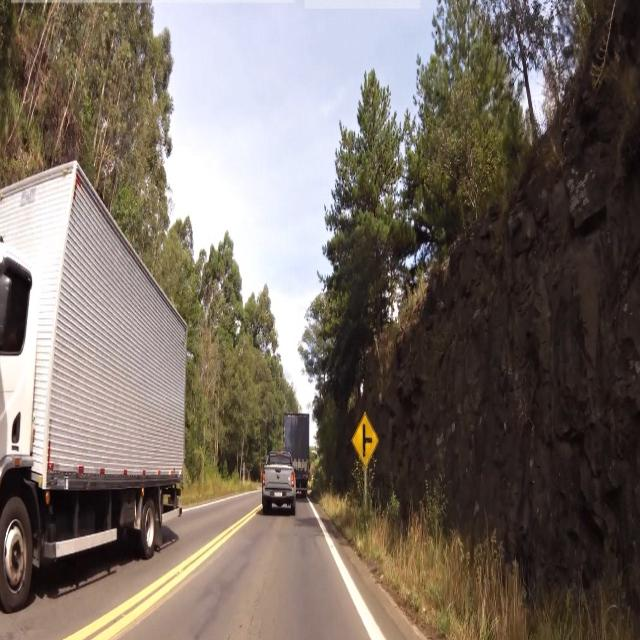A-7b: (351, 407, 385, 466)
